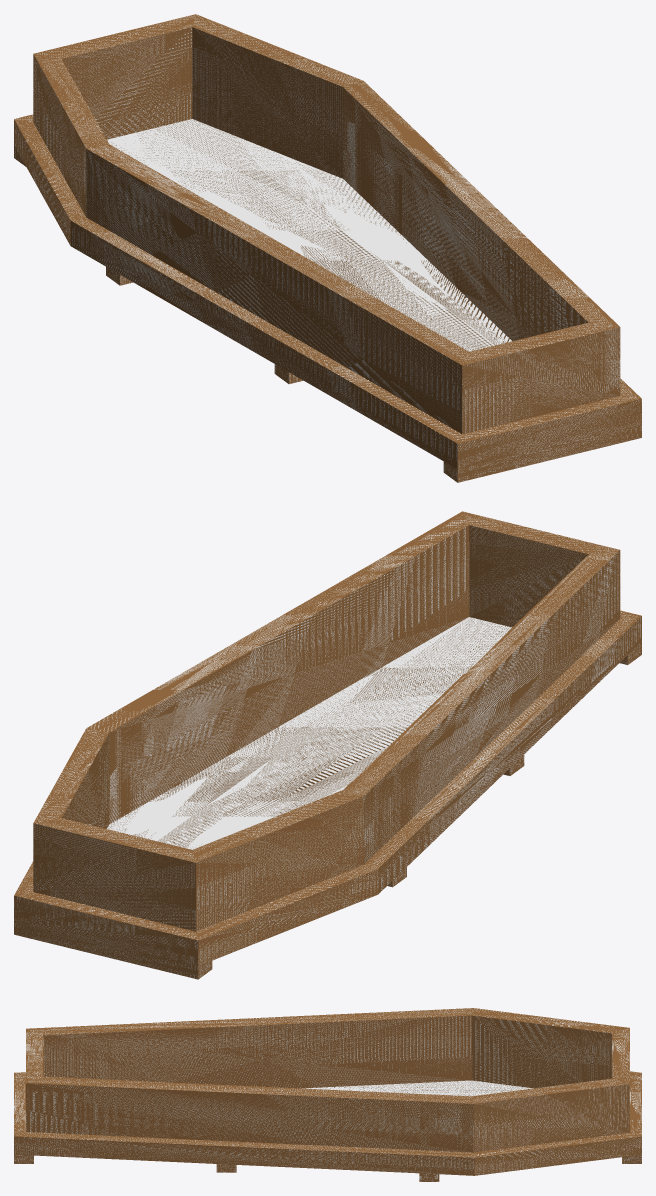
The model's file is Graveyard_Casket_Wooden_Open_01.fbx.
The picture shows the model from 3 angles, top to bottom: view 1: azimuth 30°, elevation 25°; view 2: azimuth 150°, elevation 25°; view 3: azimuth 270°, elevation 25°; orthographic projection. The views are drawn at different scales.
Visible parts, largest first — view 1: Model; view 2: Model; view 3: Model.
Boxes of the visible parts, <box> form: Model: <box>14,14,641,482</box>; Model: <box>14,511,641,979</box>; Model: <box>14,1008,641,1181</box>.
Size of the model in its own units: 403 by 135 by 1007.
